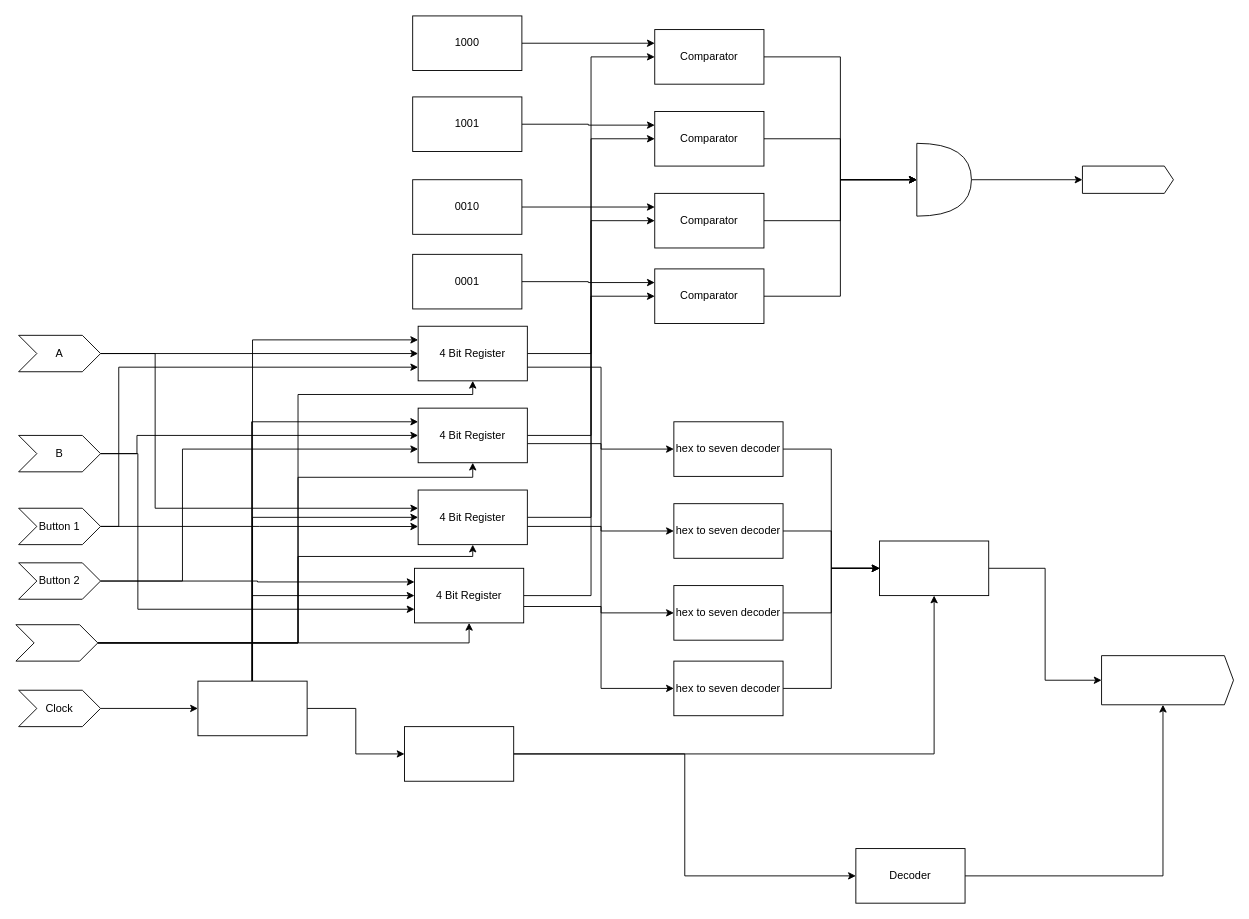
Some shapes in this 1249 by 919 pixel diagram are drawn without their labels. The centre of each missing label's shape, as x and y in pixels:
"2 Bit Counter" goes at (x=459, y=753).
"4 to 1 MUX" goes at (x=934, y=568).
"Clock Divider" goes at (x=252, y=708).
"Output" goes at (x=1127, y=179).
"Reset" goes at (x=56, y=642).
"Seven Segment Controller" goes at (x=1167, y=680).
